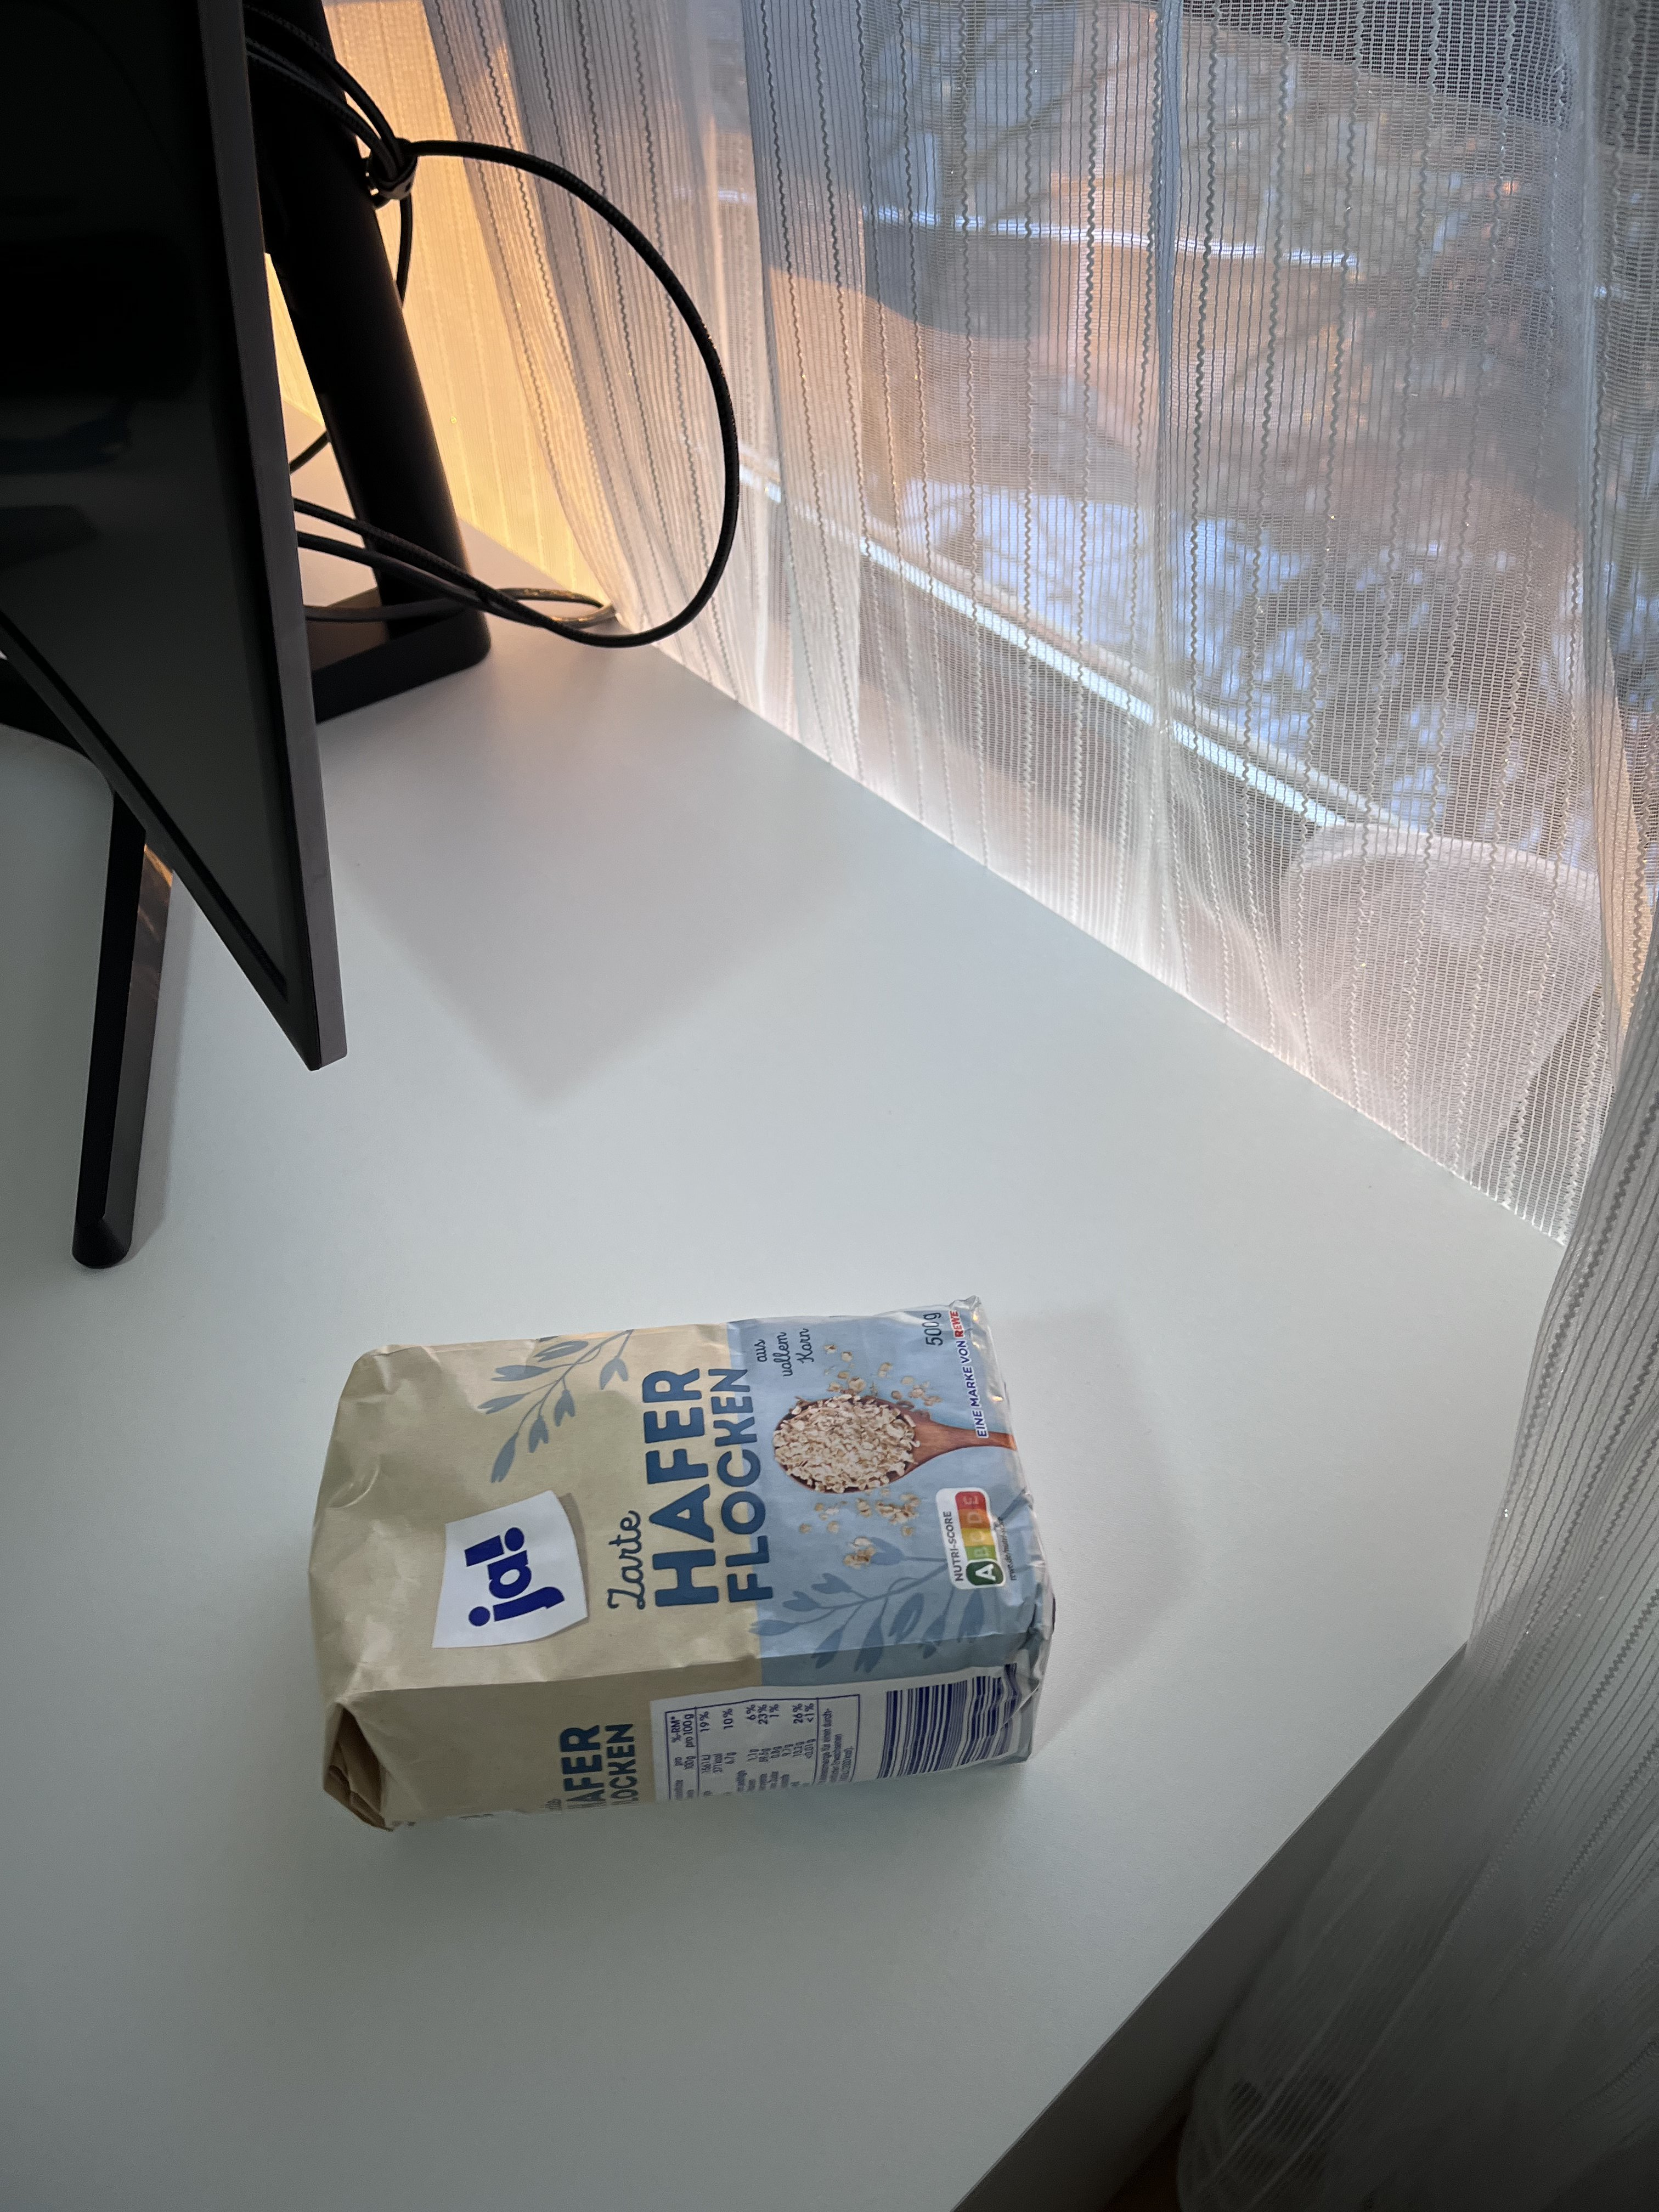haferflocken_ja: (307, 1296, 1054, 1827)
